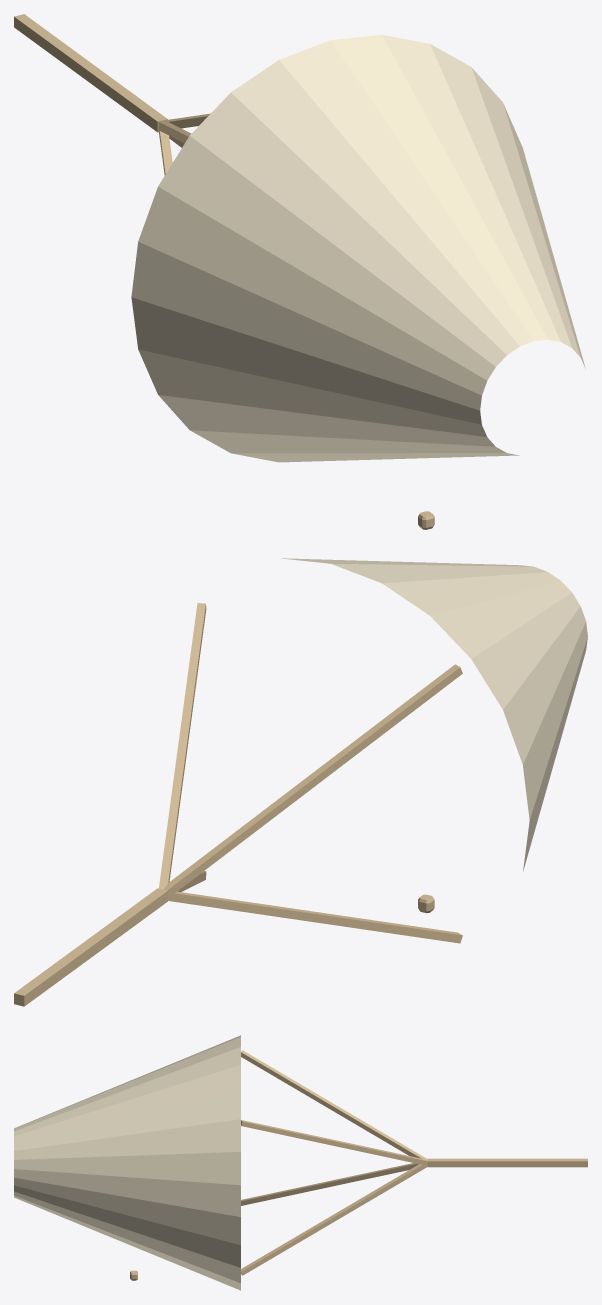
The model's file is ocean-raft-settlement-ocean-raft-settlement-sea-anchor-faf7fd41__28917.glb.
3 views of the same model, one above another, from view 1: azimuth 30°, elevation 25°; view 2: azimuth 150°, elevation 25°; view 3: azimuth 270°, elevation 25° (orthographic). The views are drawn at different scales.
Visible parts, largest first — view 1: canvas, rope; view 2: canvas, rope; view 3: canvas, rope.
Boxes of the visible parts, x1=… form: canvas: x1=131, y1=34, x2=585, y2=462; rope: x1=14, y1=14, x2=434, y2=529; canvas: x1=281, y1=558, x2=587, y2=871; rope: x1=14, y1=603, x2=462, y2=1006; canvas: x1=14, y1=1035, x2=240, y2=1290; rope: x1=130, y1=1050, x2=587, y2=1280.
Size of the model in its own units: 0.96 by 0.96 by 2.15.
